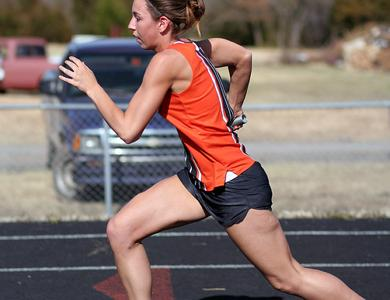person: (58, 1, 367, 300)
